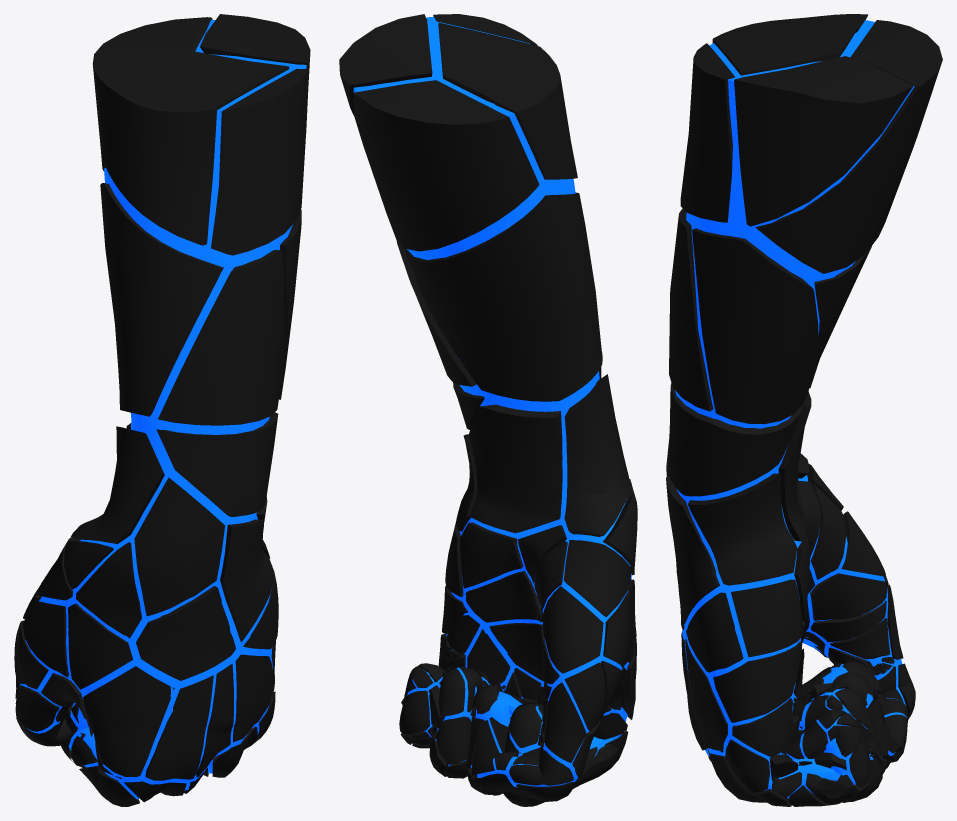
Rendered from BigArm.fbx.
The picture shows the model from 3 angles, left to right: view 1: azimuth 30°, elevation 25°; view 2: azimuth 150°, elevation 25°; view 3: azimuth 270°, elevation 25°; orthographic projection. The views are drawn at different scales.
Parts seen in each view (by area): view 1: L_BigArm.002_cell.064; view 2: L_BigArm.002_cell.064; view 3: L_BigArm.002_cell.064.
Boxes of the visible parts, x1,y1,x2,y2 form: L_BigArm.002_cell.064: (14,14,310,806); L_BigArm.002_cell.064: (339,14,637,806); L_BigArm.002_cell.064: (666,14,942,806).
Size of the model in its own units: 87.62 by 222 by 71.82.
